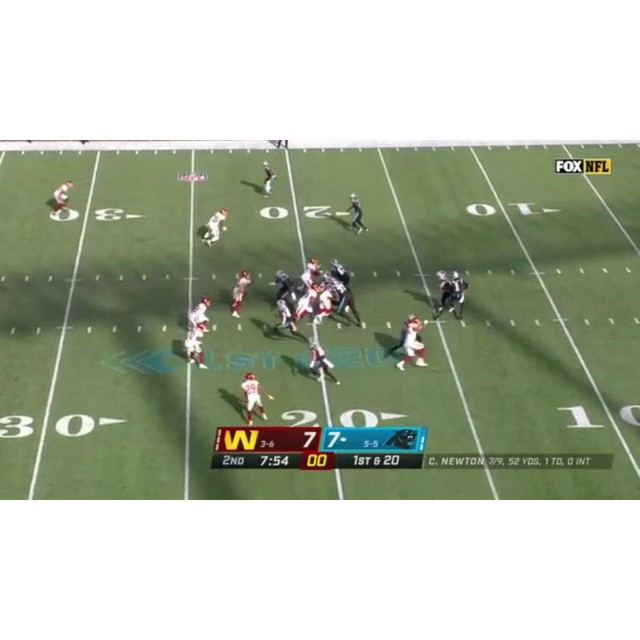american-football-player: (326, 278, 365, 329), (240, 372, 274, 426), (395, 318, 429, 371), (385, 315, 420, 356), (308, 342, 340, 385), (446, 272, 469, 327), (183, 325, 209, 370), (200, 208, 229, 248), (432, 269, 455, 319), (294, 282, 322, 323), (46, 179, 74, 218), (346, 192, 369, 235), (273, 298, 298, 336), (298, 256, 321, 292), (189, 295, 212, 331), (271, 270, 294, 304), (329, 259, 353, 289), (261, 161, 277, 197)
